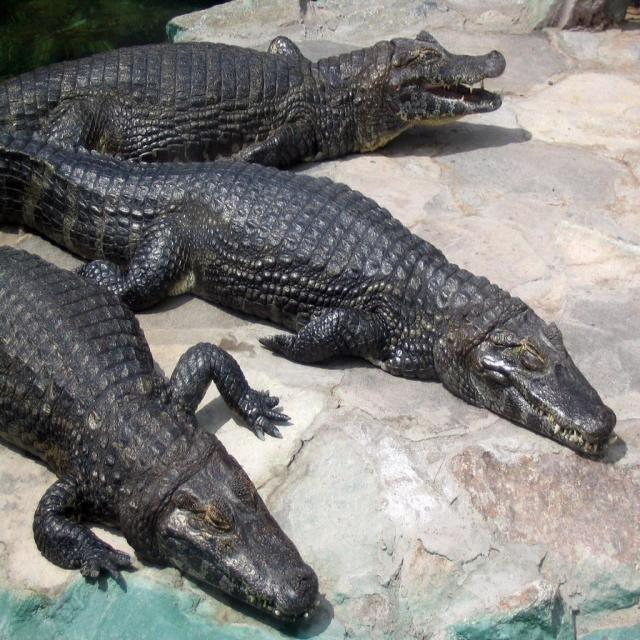crocodile: (0, 16, 639, 639)
